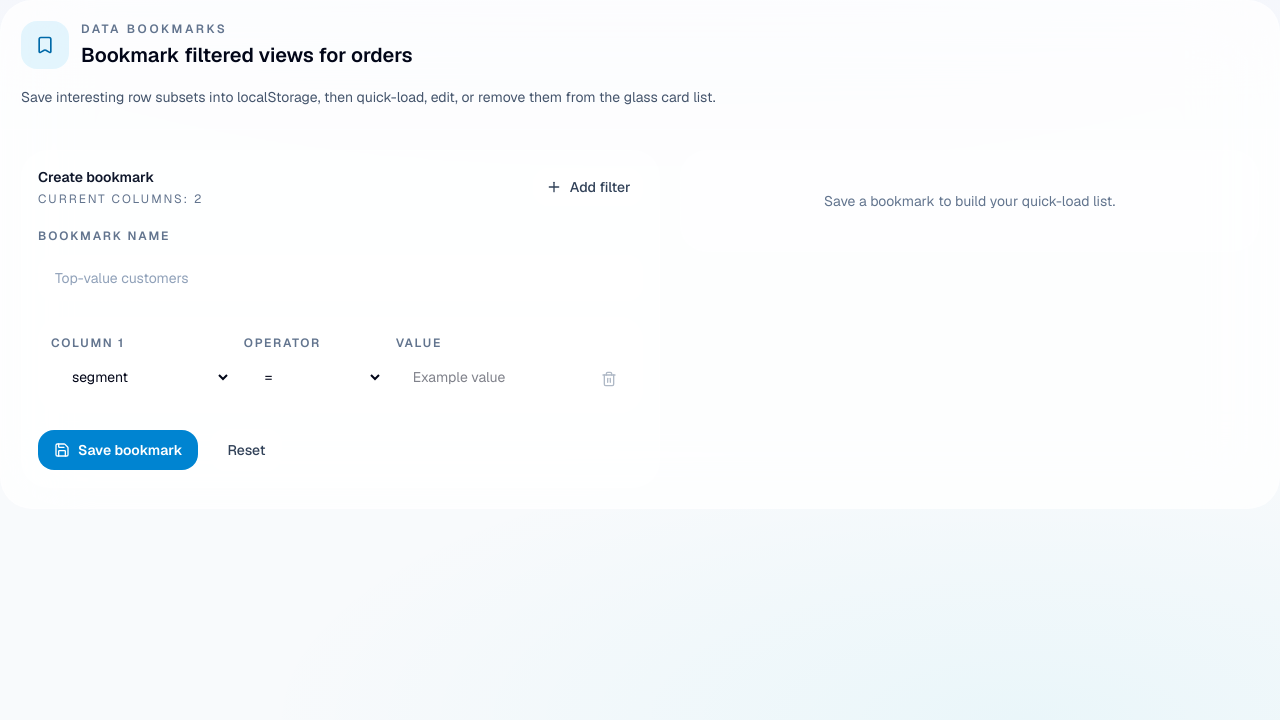
DataBookmarkManager › saves a new bookmark and persists it
In the field with placeholder "Top-value customers": (341, 278) [38, 255, 643, 301], type "High value"
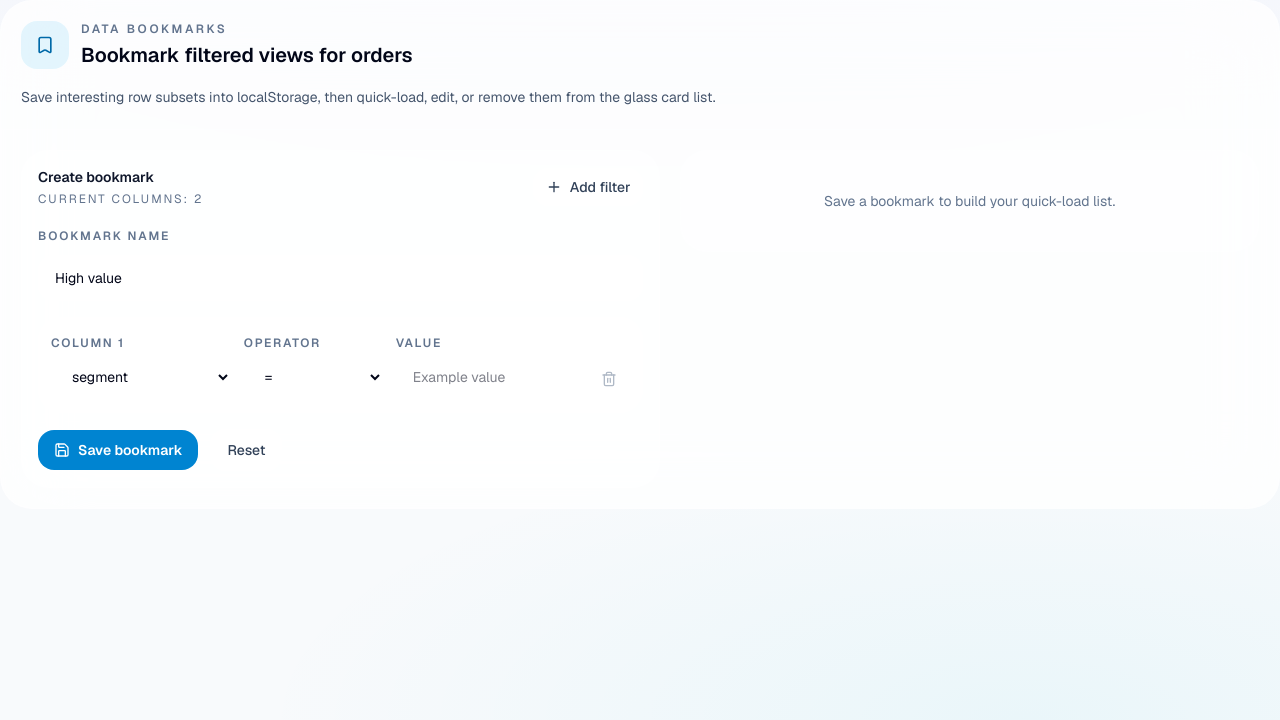
In the field with placeholder "Example value": (486, 377) [396, 354, 576, 400], type "Enterprise"
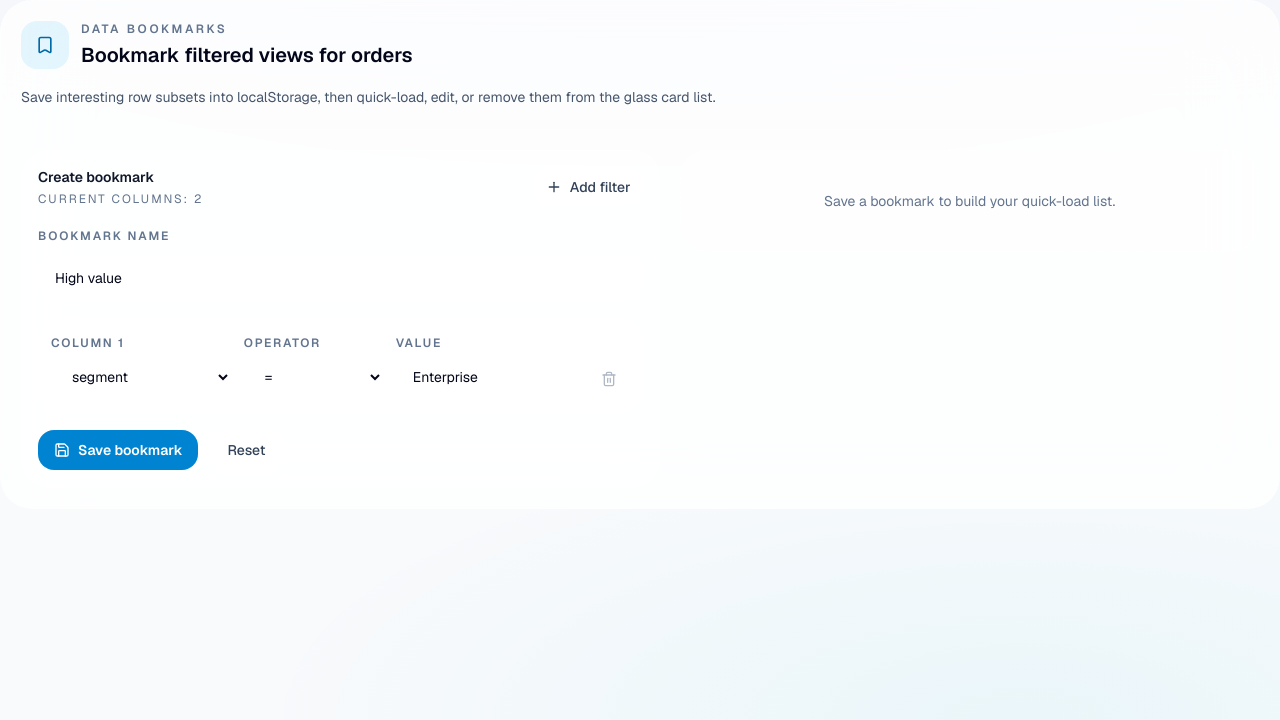
Click the button "Save bookmark": (118, 450) [38, 430, 198, 470]
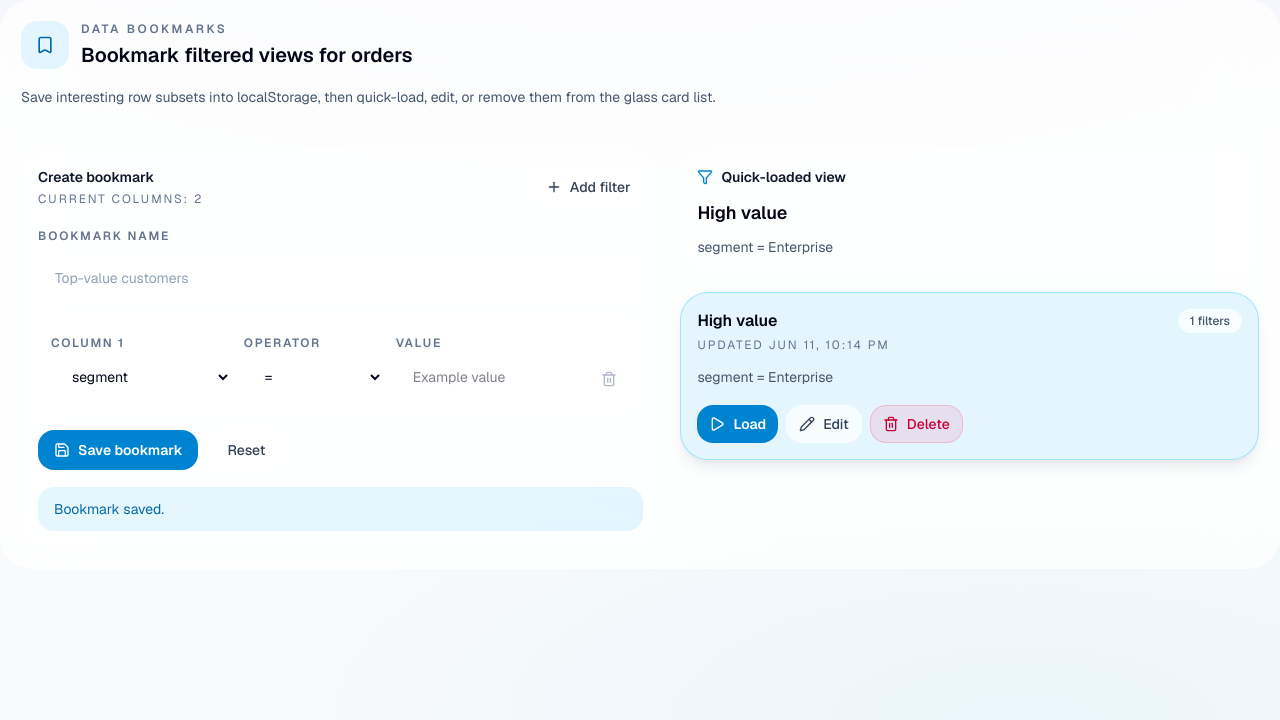
Expected: the text "High value" is shown, [697, 201, 787, 224]
